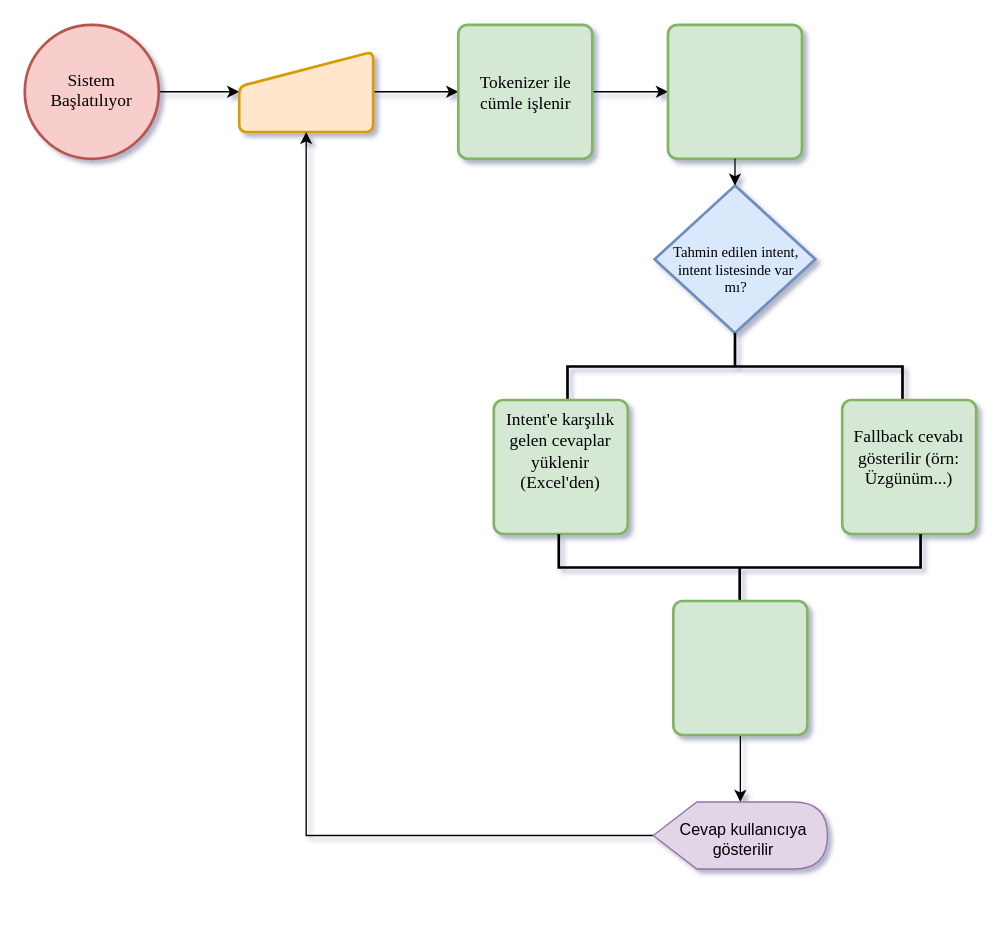
Image size: 1008x929. Some labels were removed from this diagram. Here are the shapes that lost their labels. From the top down, the box of each, then its label:
(237, 50, 374, 133): Kullanıcıdan giriş alınır (input)
(666, 23, 803, 159): Model intent tahmin eder
(671, 599, 808, 736): Intent'e uygun rastgele cevap seçilir
